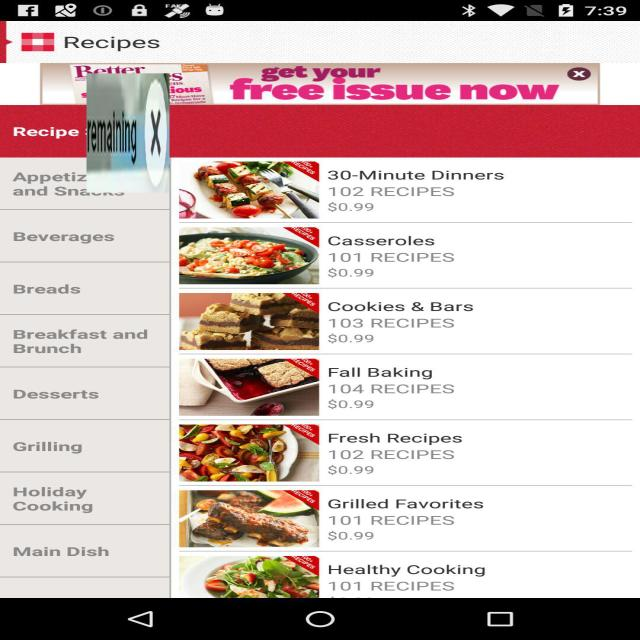misdirection: (86, 73, 170, 193)
